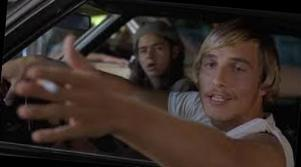Drunk: (200, 49, 256, 120), (140, 34, 165, 75)
